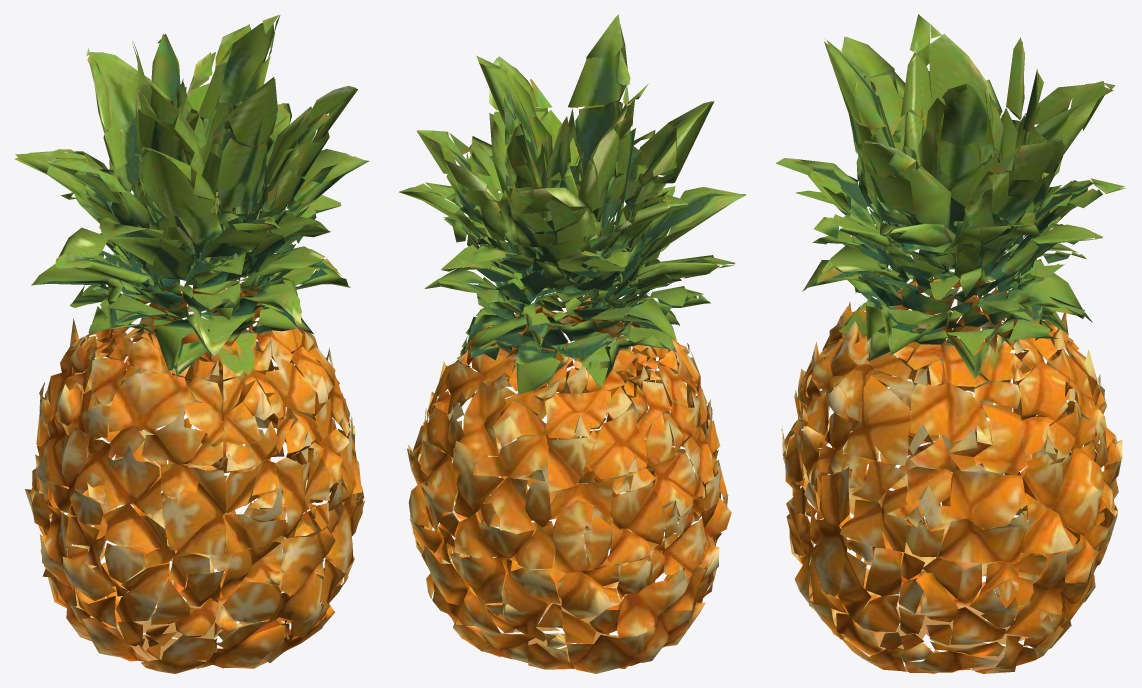
The model's file is pina.glb.
The picture shows the model from 3 angles, left to right: view 1: azimuth 30°, elevation 25°; view 2: azimuth 150°, elevation 25°; view 3: azimuth 270°, elevation 25°; orthographic projection. The views are drawn at different scales.
Parts seen in each view (by area): view 1: Mesh_0; view 2: Mesh_0; view 3: Mesh_0.
Part boxes in pixels (bbox=[...]): Mesh_0: bbox=[14, 14, 368, 673]; Mesh_0: bbox=[398, 14, 746, 673]; Mesh_0: bbox=[776, 14, 1125, 673].
Size of the model in its own units: 0.9898 by 1.91 by 0.9895.
1 material, 1 textured.
